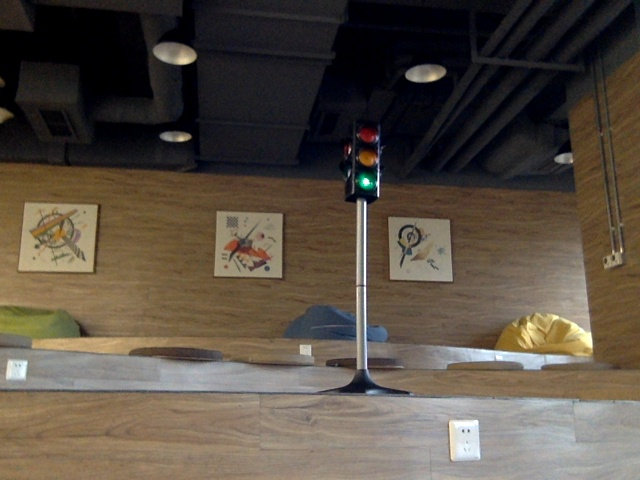green: (351, 128, 377, 193)
